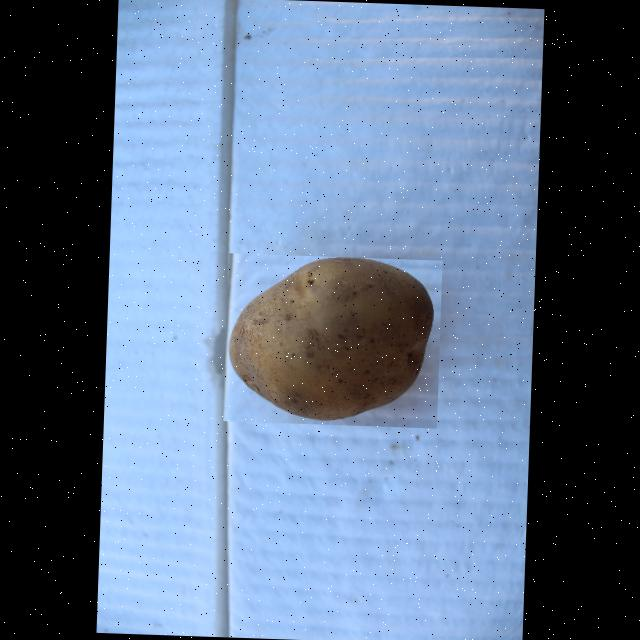Diseased-fungal potato: (222, 252, 442, 427)
